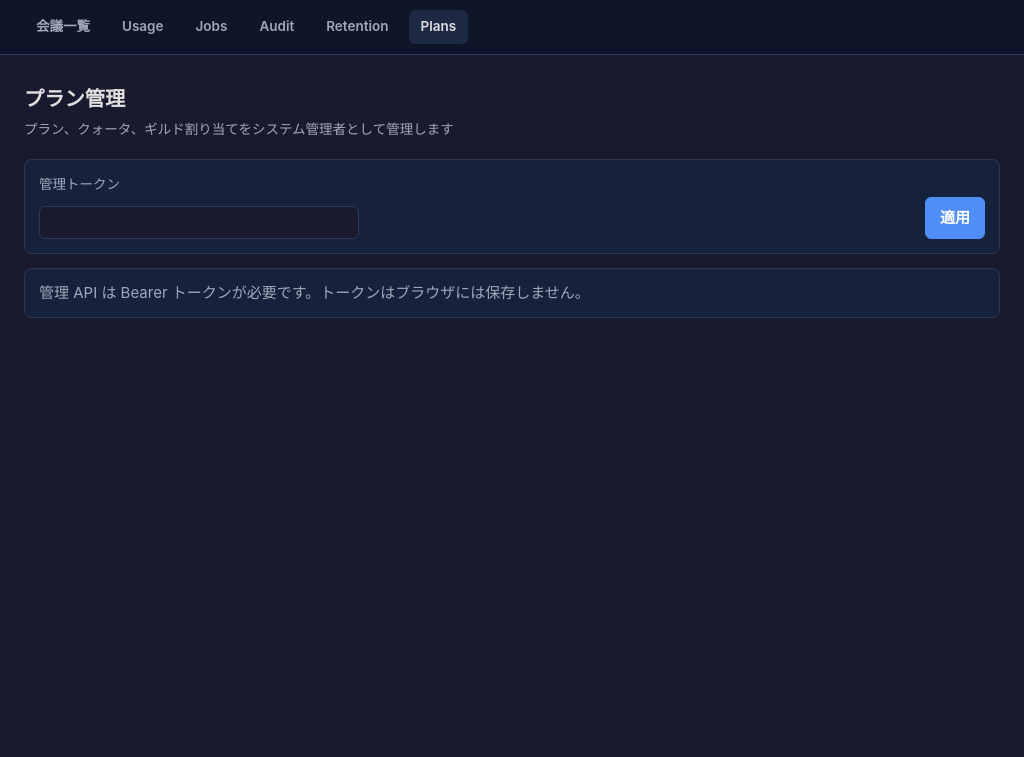
Scenario: App access controls › loads plan administration with the provided bearer token
This screenshot has width=1024, height=757.
Expected: the link "Plans" is shown, [408,10,468,44]
Type "admin-token" into the password field labelled "管理トークン". click: (199, 222)
box: [39,206,359,239]
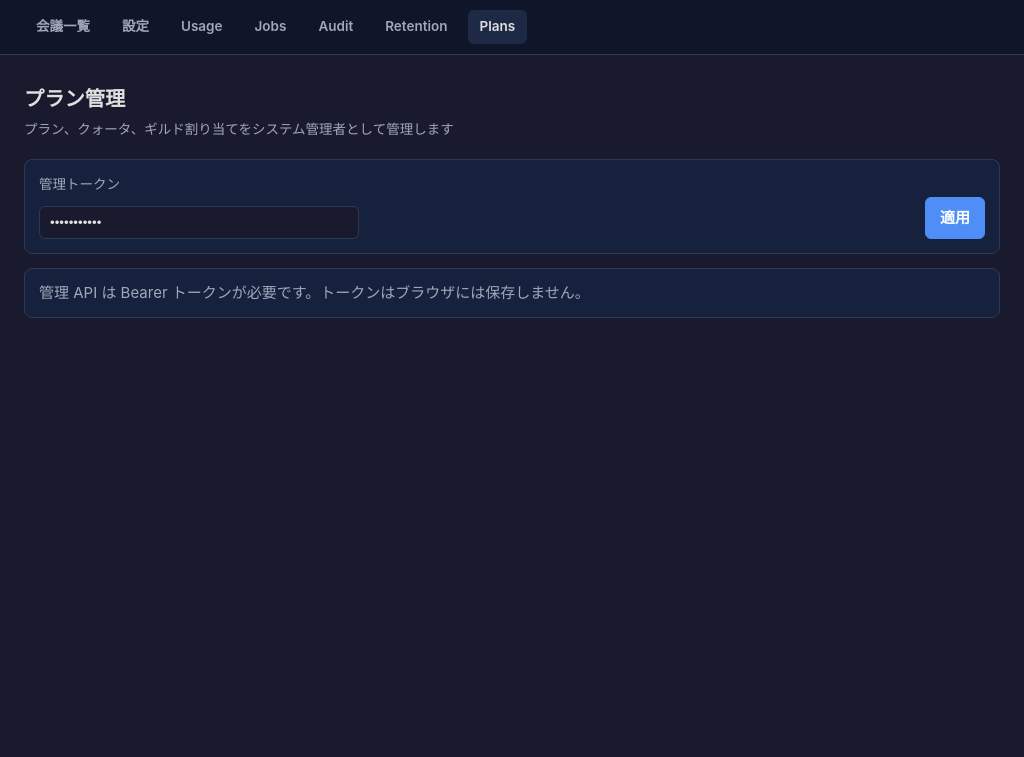
Click the button "適用". click: (955, 218)
box: [925,197,985,239]
(page scrolled)
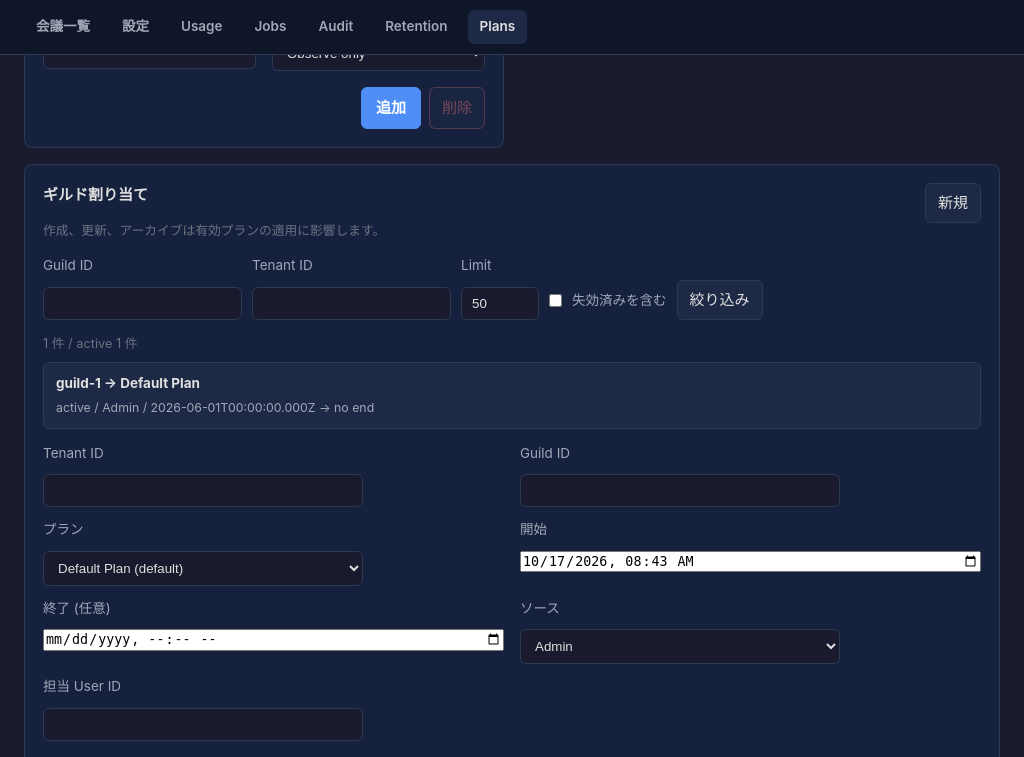
Expected: the text "guild-1 -> Default Plan" is shown, [56,375,200,391]
